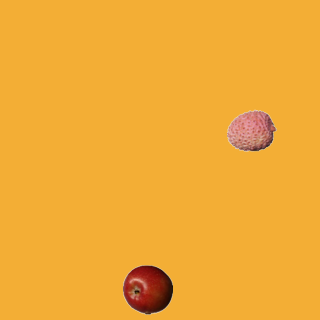Apple Braeburn: (122, 264, 172, 314)
Lychee: (226, 105, 276, 155)
